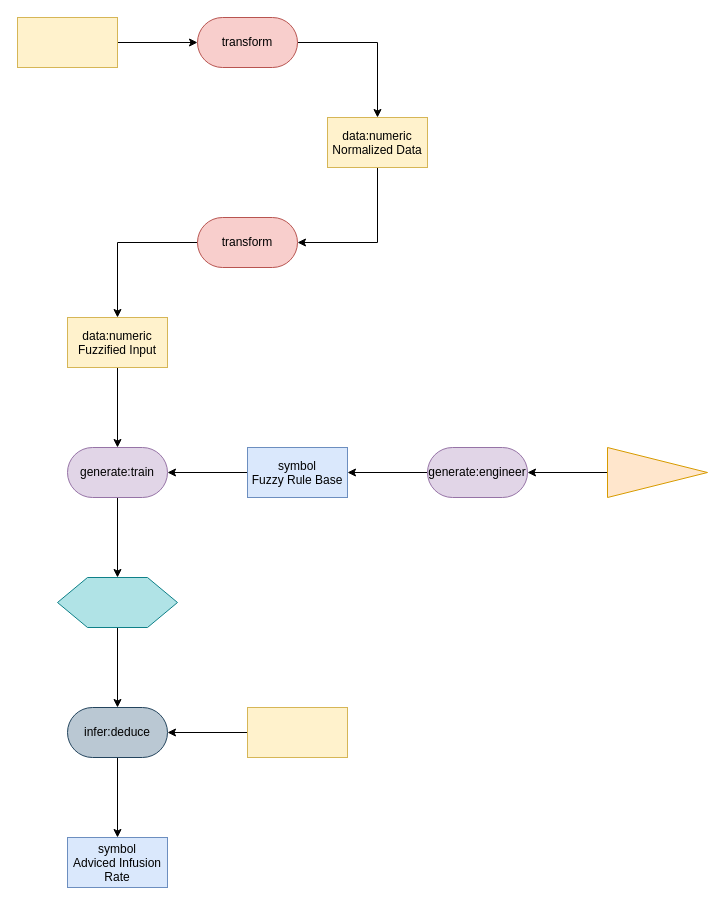
Some shapes in this 725 by 905 pixel diagram are drawn without their labels. Here are the shapes that lost their labels. From the top down, the centre of each, then its label:
(67,42): data:numeric Measurements
(657,472): actor
(117,602): model:hybrid Inference Engine
(297,732): data:numeric Patient Measurements
